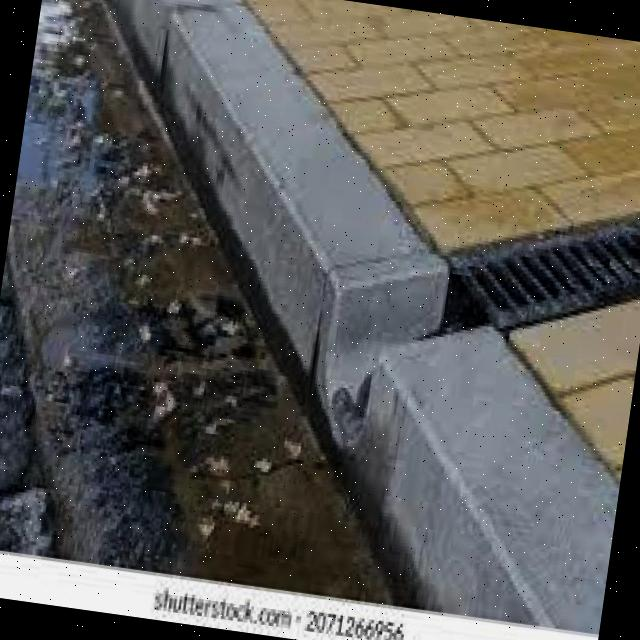curb: (188, 137, 640, 629), (53, 1, 343, 223)
